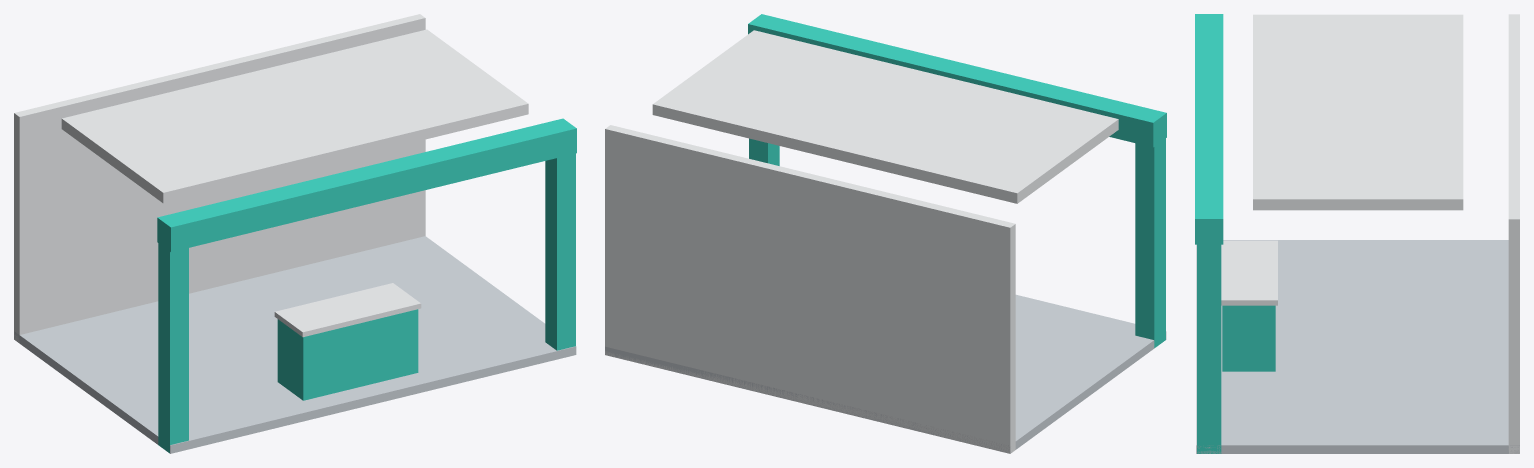
The picture shows the model from 3 angles, left to right: view 1: azimuth 30°, elevation 25°; view 2: azimuth 150°, elevation 25°; view 3: azimuth 270°, elevation 25°; orthographic projection. The views are drawn at different scales.
Visible parts, largest first — view 1: Exhibition Booth Concept; view 2: Exhibition Booth Concept; view 3: Exhibition Booth Concept.
Part boxes in pixels (box(x1,y1,x2,y2)): Exhibition Booth Concept: box(14, 14, 576, 453); Exhibition Booth Concept: box(605, 14, 1166, 453); Exhibition Booth Concept: box(1195, 14, 1519, 453).
Bounding box in the file's own units: 6 × 3.34 × 4.02.
